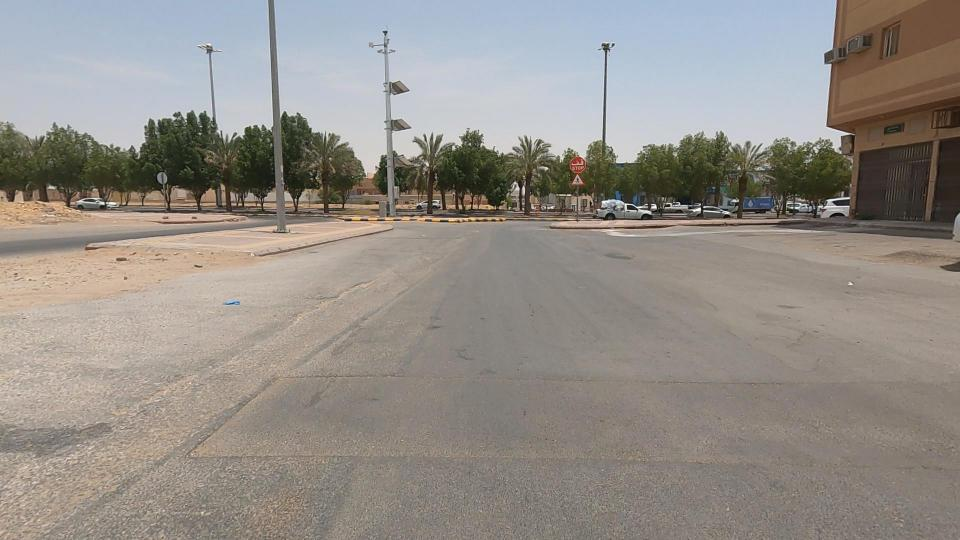GARBAGE: (811, 253, 881, 319), (187, 278, 274, 327)
